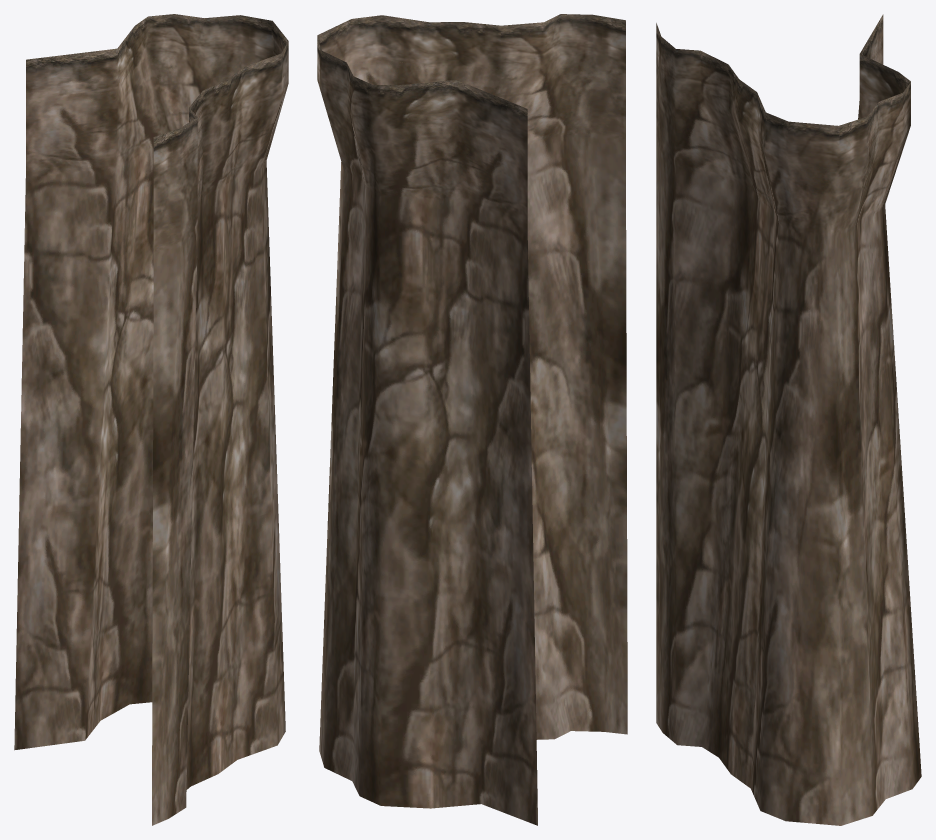
Rendered from OVERHILL_A_01_LINE57.fbx.
3 views of the same model, side by side, from view 1: azimuth 30°, elevation 25°; view 2: azimuth 150°, elevation 25°; view 3: azimuth 270°, elevation 25° (orthographic). The views are drawn at different scales.
Visible parts, largest first — view 1: OVERHILL_A_01_LINE57; view 2: OVERHILL_A_01_LINE57; view 3: OVERHILL_A_01_LINE57.
Part boxes in pixels (box(x1,y1,x2,y2)): OVERHILL_A_01_LINE57: box(14, 14, 288, 825); OVERHILL_A_01_LINE57: box(317, 14, 627, 825); OVERHILL_A_01_LINE57: box(656, 14, 921, 825).
Bounding box in the file's own units: 48487 × 135326 × 46370.
2 materials, 2 textured.
